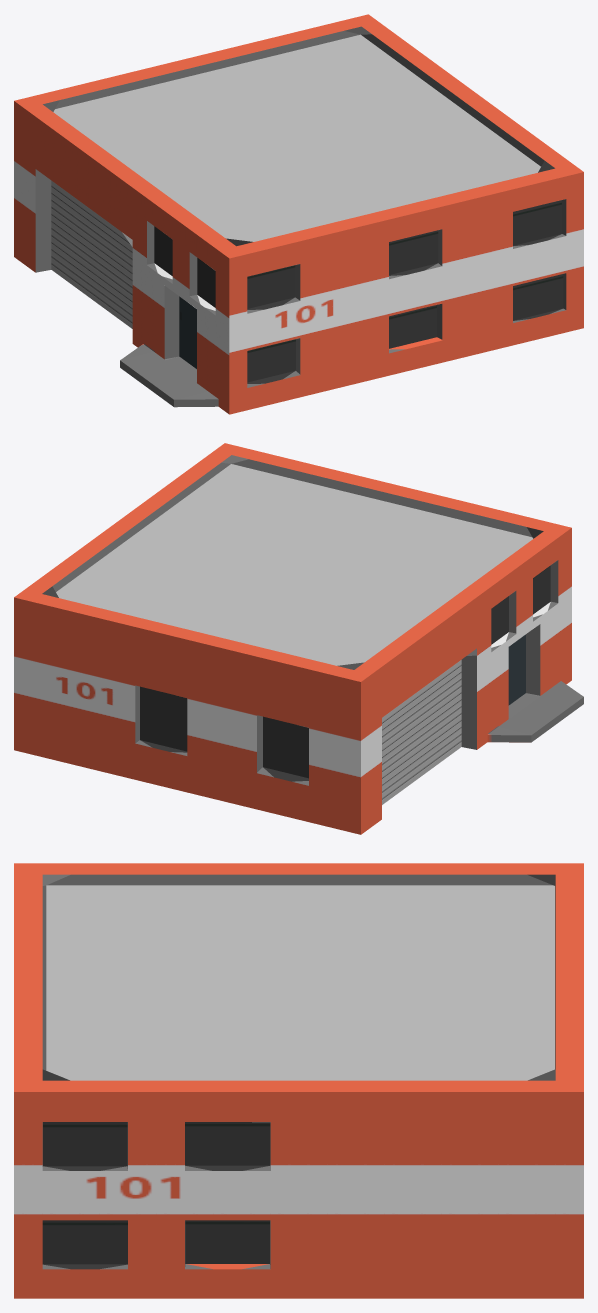
File: Fireplace.fbx
3 renders of one model, top to bottom at view 1: azimuth 30°, elevation 25°; view 2: azimuth 150°, elevation 25°; view 3: azimuth 270°, elevation 25°, orthographic. The views are drawn at different scales.
Parts seen in each view (by area): view 1: Объект_Куб; view 2: Объект_Куб; view 3: Объект_Куб.
Boxes of the visible parts, x1=… form: Объект_Куб: x1=14, y1=14, x2=583, y2=414; Объект_Куб: x1=14, y1=443, x2=583, y2=834; Объект_Куб: x1=14, y1=863, x2=583, y2=1298.
Size of the model in its own units: 520 by 200 by 500.
1 material, 1 textured.
